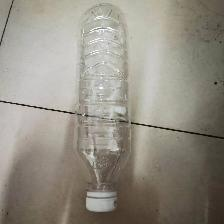bottle: (16, 2, 196, 217)
